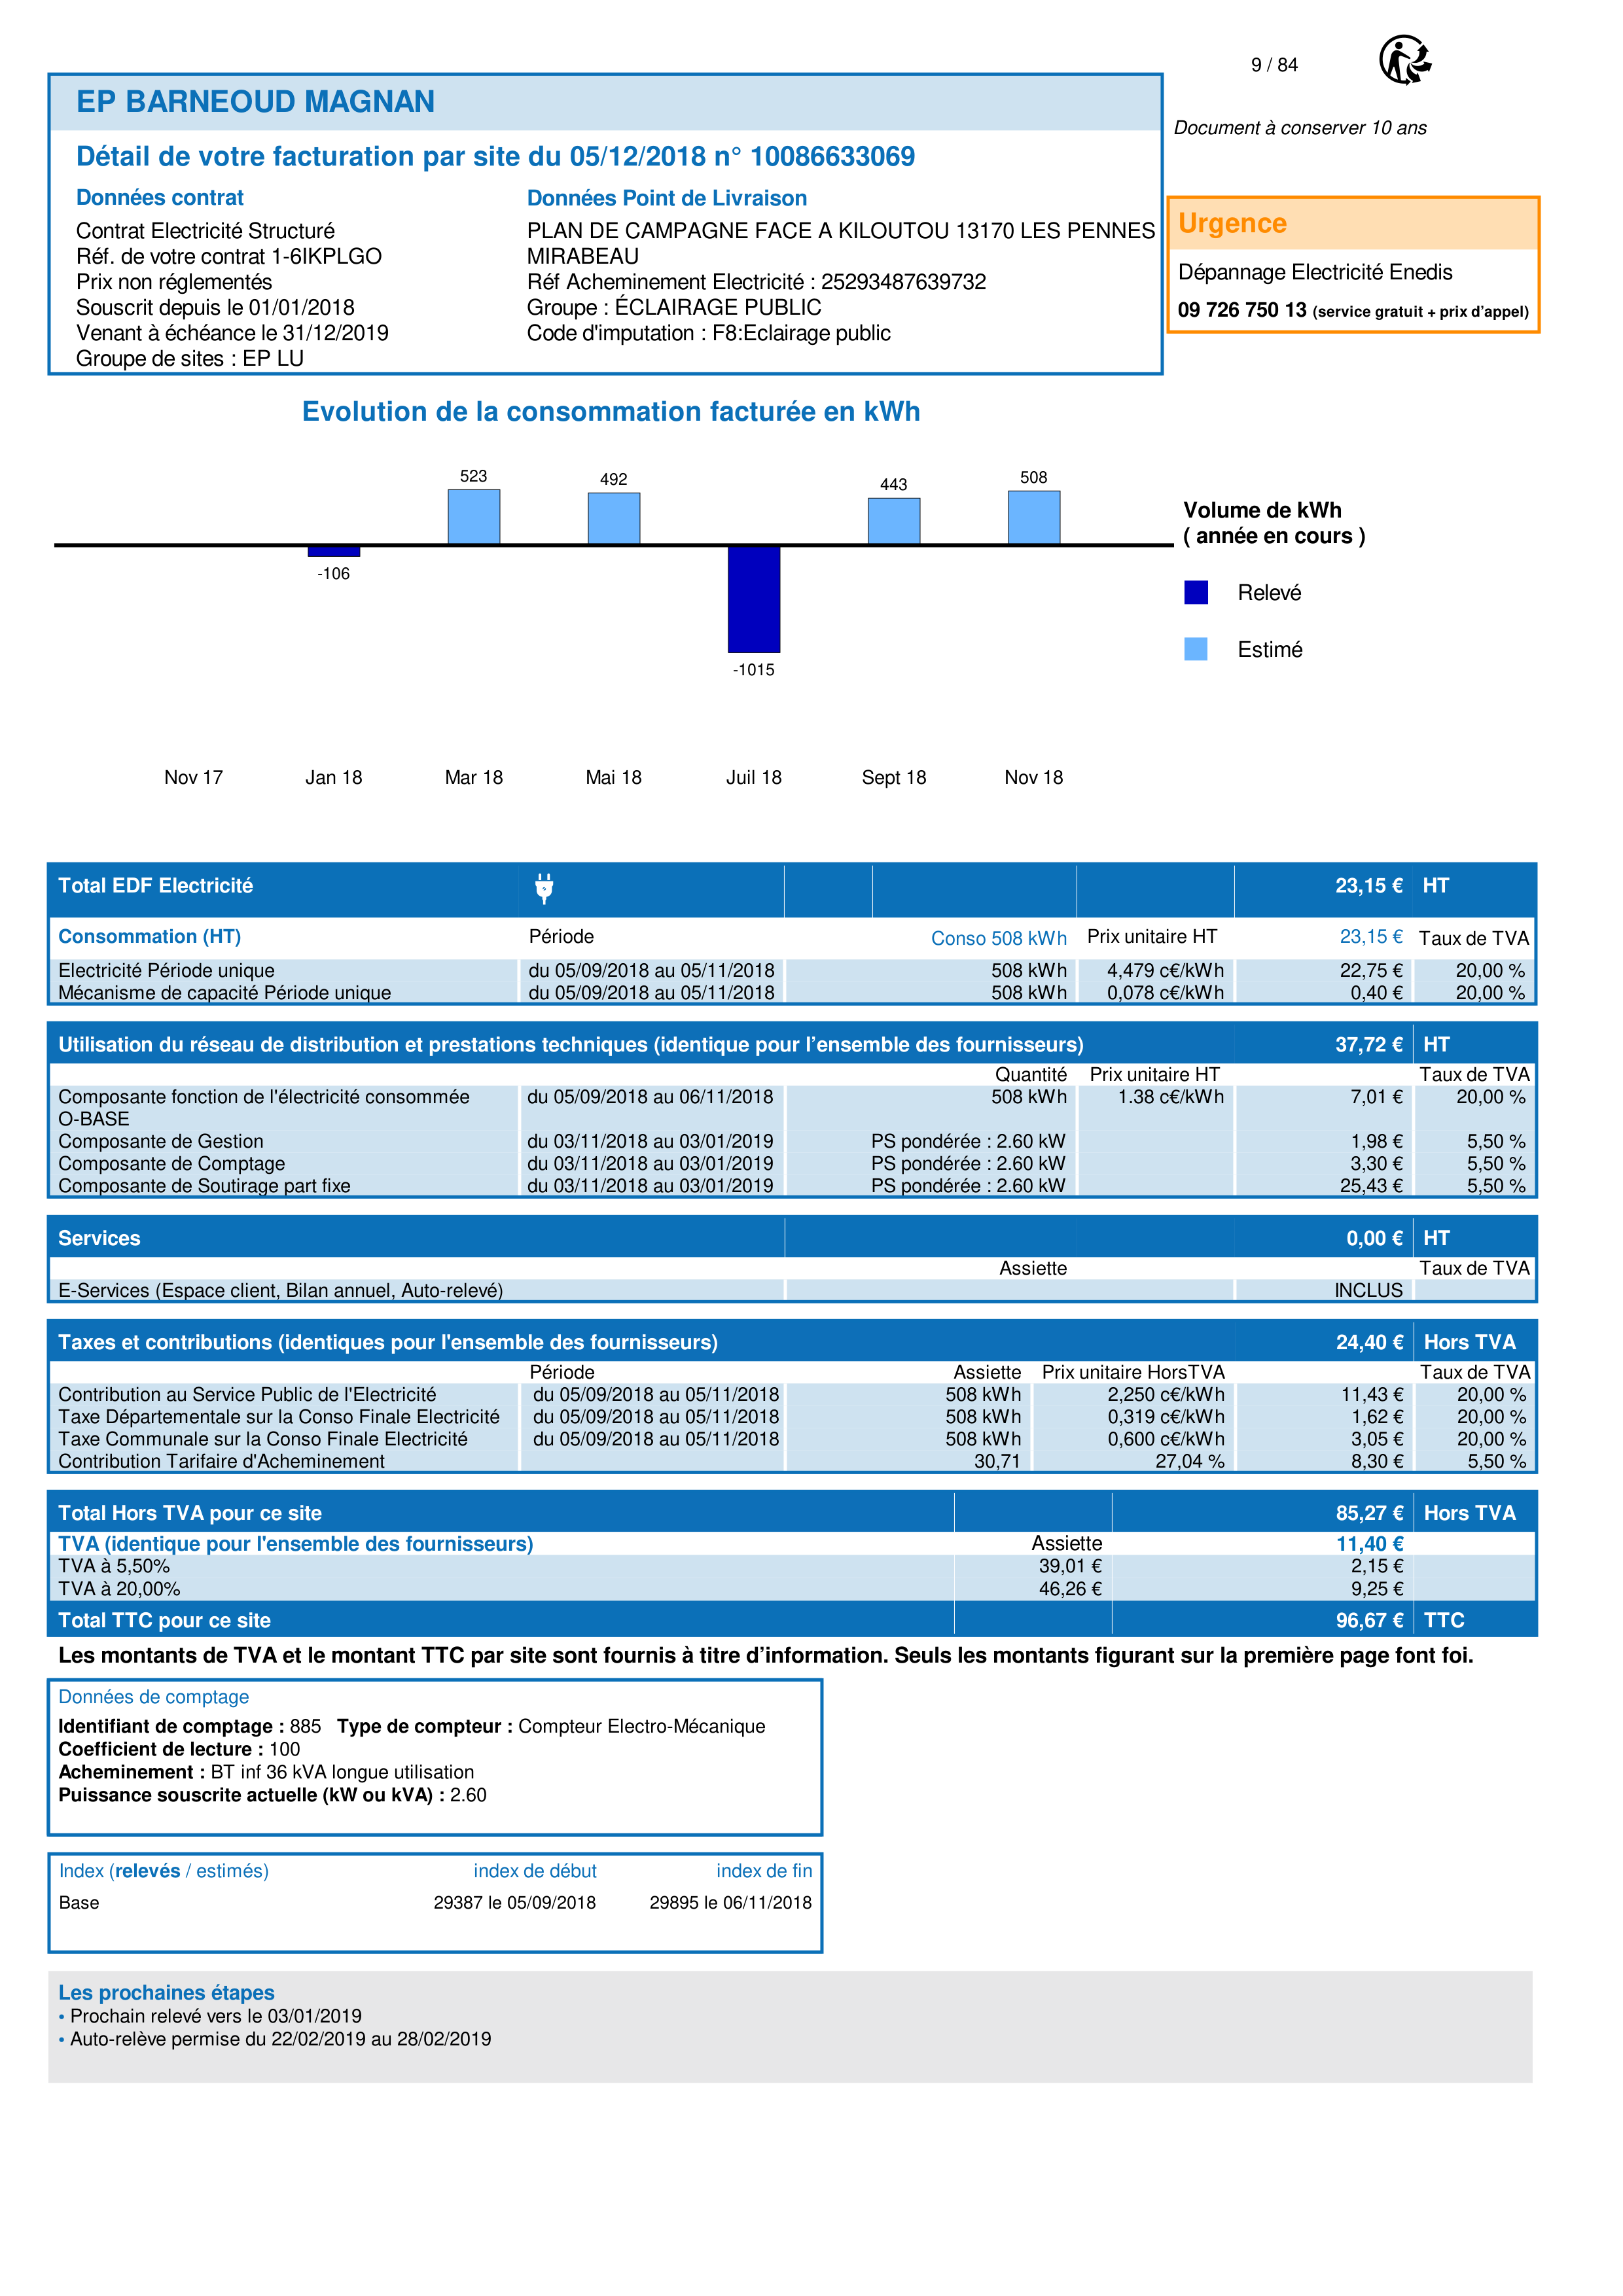area: (47, 1853, 824, 1952)
type_indicator: (49, 1856, 281, 1887)
